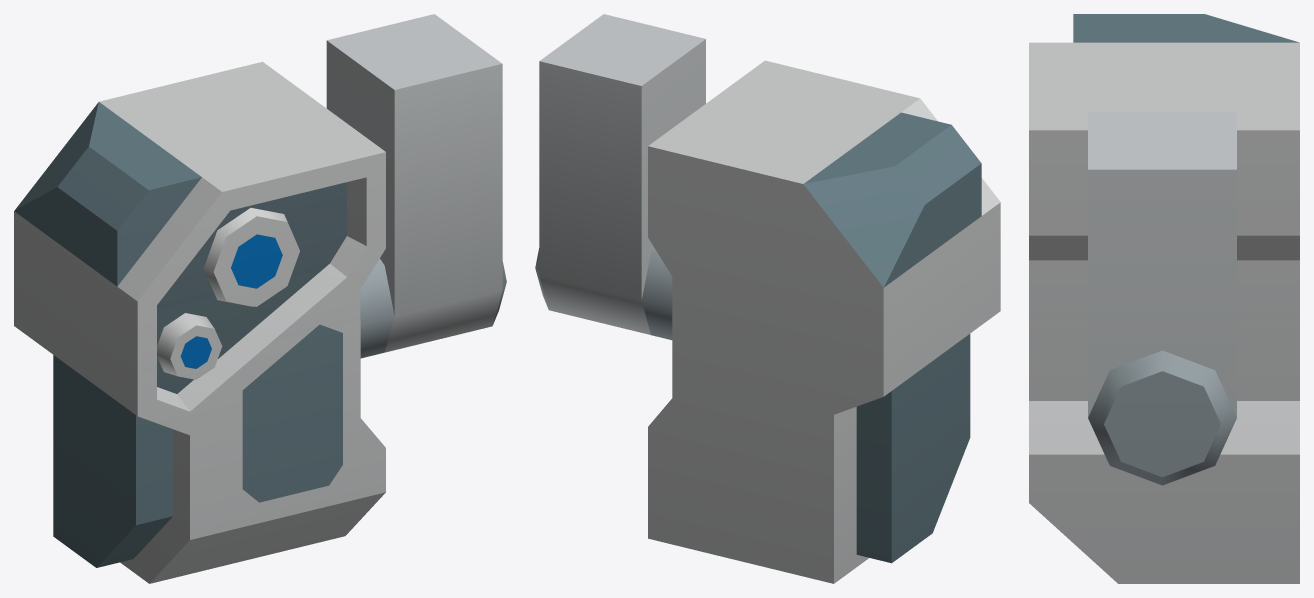
Rendered from Cam_002.fbx.
3 renders of one model, left to right at view 1: azimuth 30°, elevation 25°; view 2: azimuth 150°, elevation 25°; view 3: azimuth 270°, elevation 25°, orthographic. The views are drawn at different scales.
Visible parts, largest first — view 1: Cam_002; view 2: Cam_002; view 3: Cam_002.
Boxes of the visible parts, left/top/right/bottom form: Cam_002: left=14, top=14, right=506, bottom=583; Cam_002: left=535, top=14, right=1000, bottom=583; Cam_002: left=1029, top=14, right=1299, bottom=583.
Bounding box in the file's own units: 37.45 × 19.84 × 39.7.
